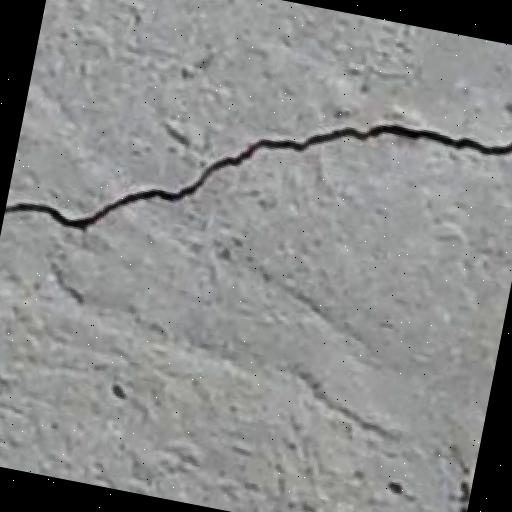spalling: (4, 99, 512, 249)
